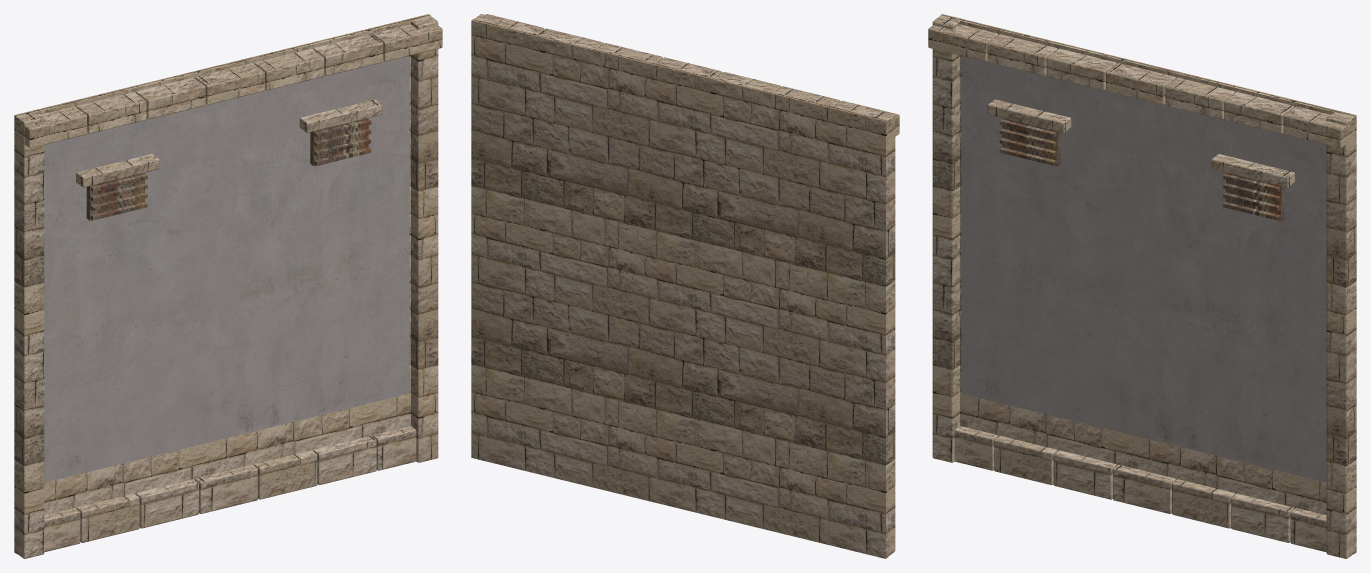
Rendered from caravan-east-south.glb.
3 views of the same model, side by side, from view 1: azimuth 30°, elevation 25°; view 2: azimuth 150°, elevation 25°; view 3: azimuth 330°, elevation 25° (orthographic).
Parts seen in each view (by area): view 1: Ashlar wall skin; view 2: Ashlar wall skin; view 3: Ashlar wall skin.
Part boxes in pixels (left/top/right/bottom): Ashlar wall skin: left=14, top=14, right=442, bottom=558; Ashlar wall skin: left=471, top=14, right=899, bottom=558; Ashlar wall skin: left=928, top=14, right=1356, bottom=558.
Bounding box in the file's own units: 4.86 × 4.9 × 0.3.
3 materials, 3 textured.
